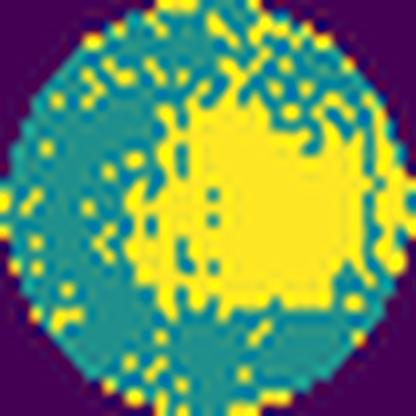Loc: (122, 50, 366, 310), (373, 102, 415, 274)
